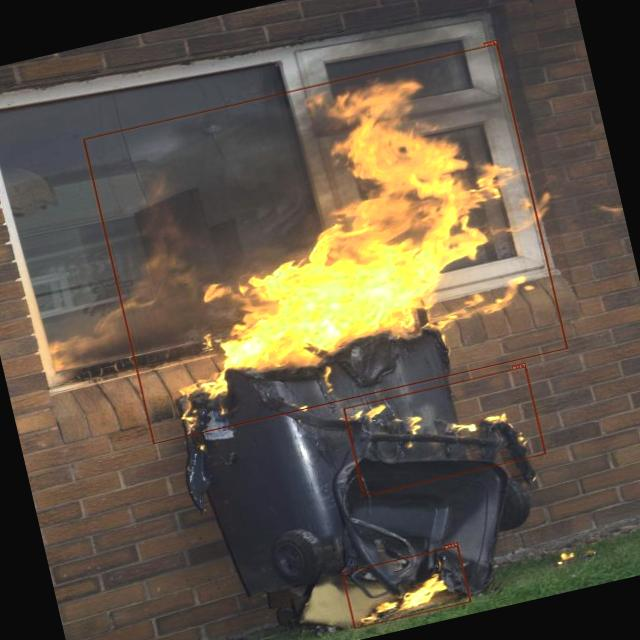fire: (83, 42, 568, 444), (343, 366, 546, 496), (341, 544, 471, 628)
